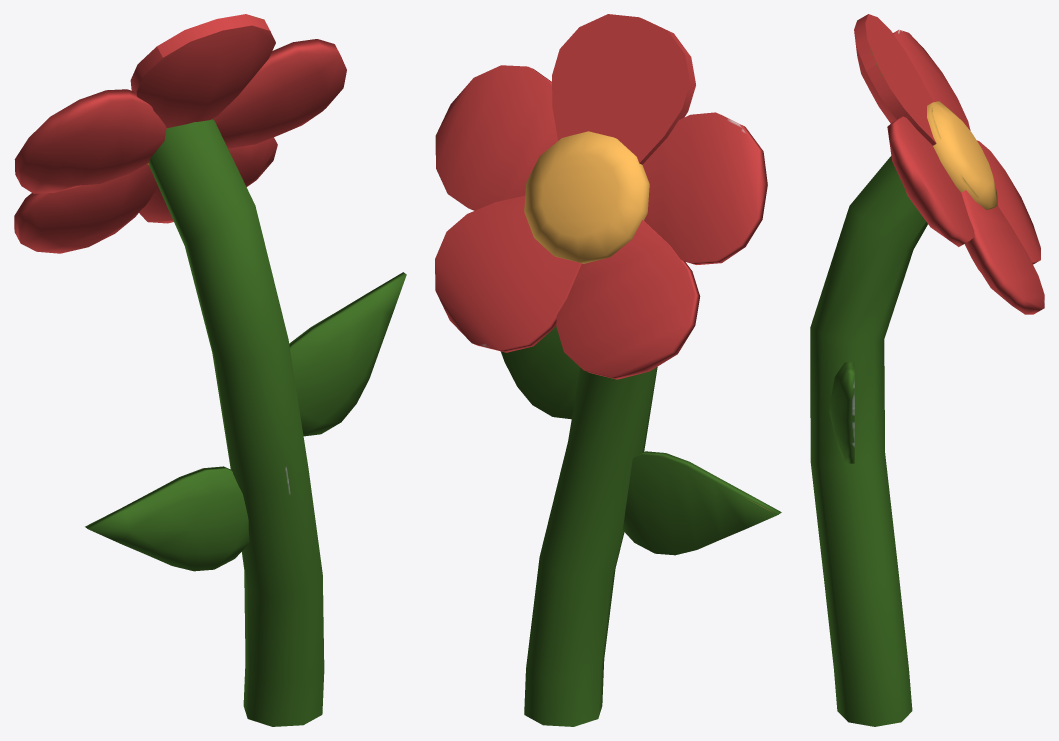
File: flower_b.fbx
The picture shows the model from 3 angles, left to right: view 1: azimuth 30°, elevation 25°; view 2: azimuth 150°, elevation 25°; view 3: azimuth 270°, elevation 25°; orthographic projection. The views are drawn at different scales.
Visible parts, largest first — view 1: flower_b; view 2: flower_b; view 3: flower_b.
Part boxes in pixels (x1=…): flower_b: x1=14, y1=14, x2=406, y2=726; flower_b: x1=435, y1=14, x2=781, y2=726; flower_b: x1=810, y1=14, x2=1044, y2=726.
Bounding box in the file's own units: 1.26 × 2.51 × 0.8146.
